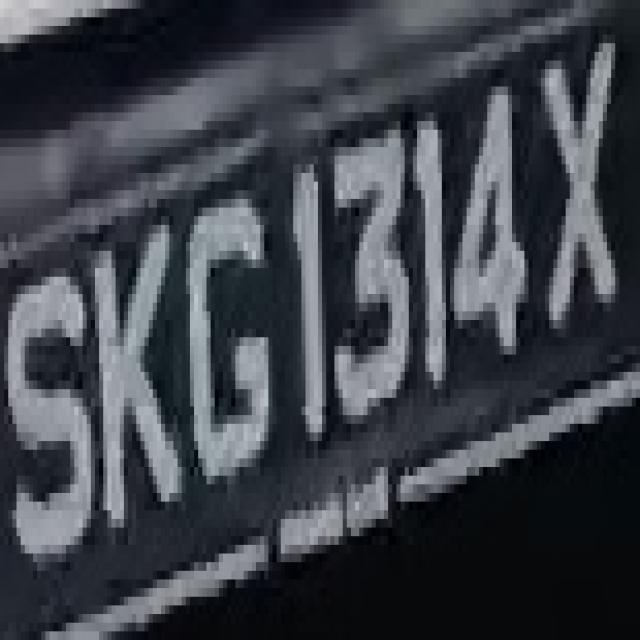1: (400, 112, 462, 424), (281, 147, 334, 467)
3: (314, 138, 404, 432)
4: (442, 87, 545, 380)
G: (173, 164, 285, 502)
K: (95, 182, 182, 562)
S: (4, 225, 95, 562)
X: (524, 9, 628, 337)
